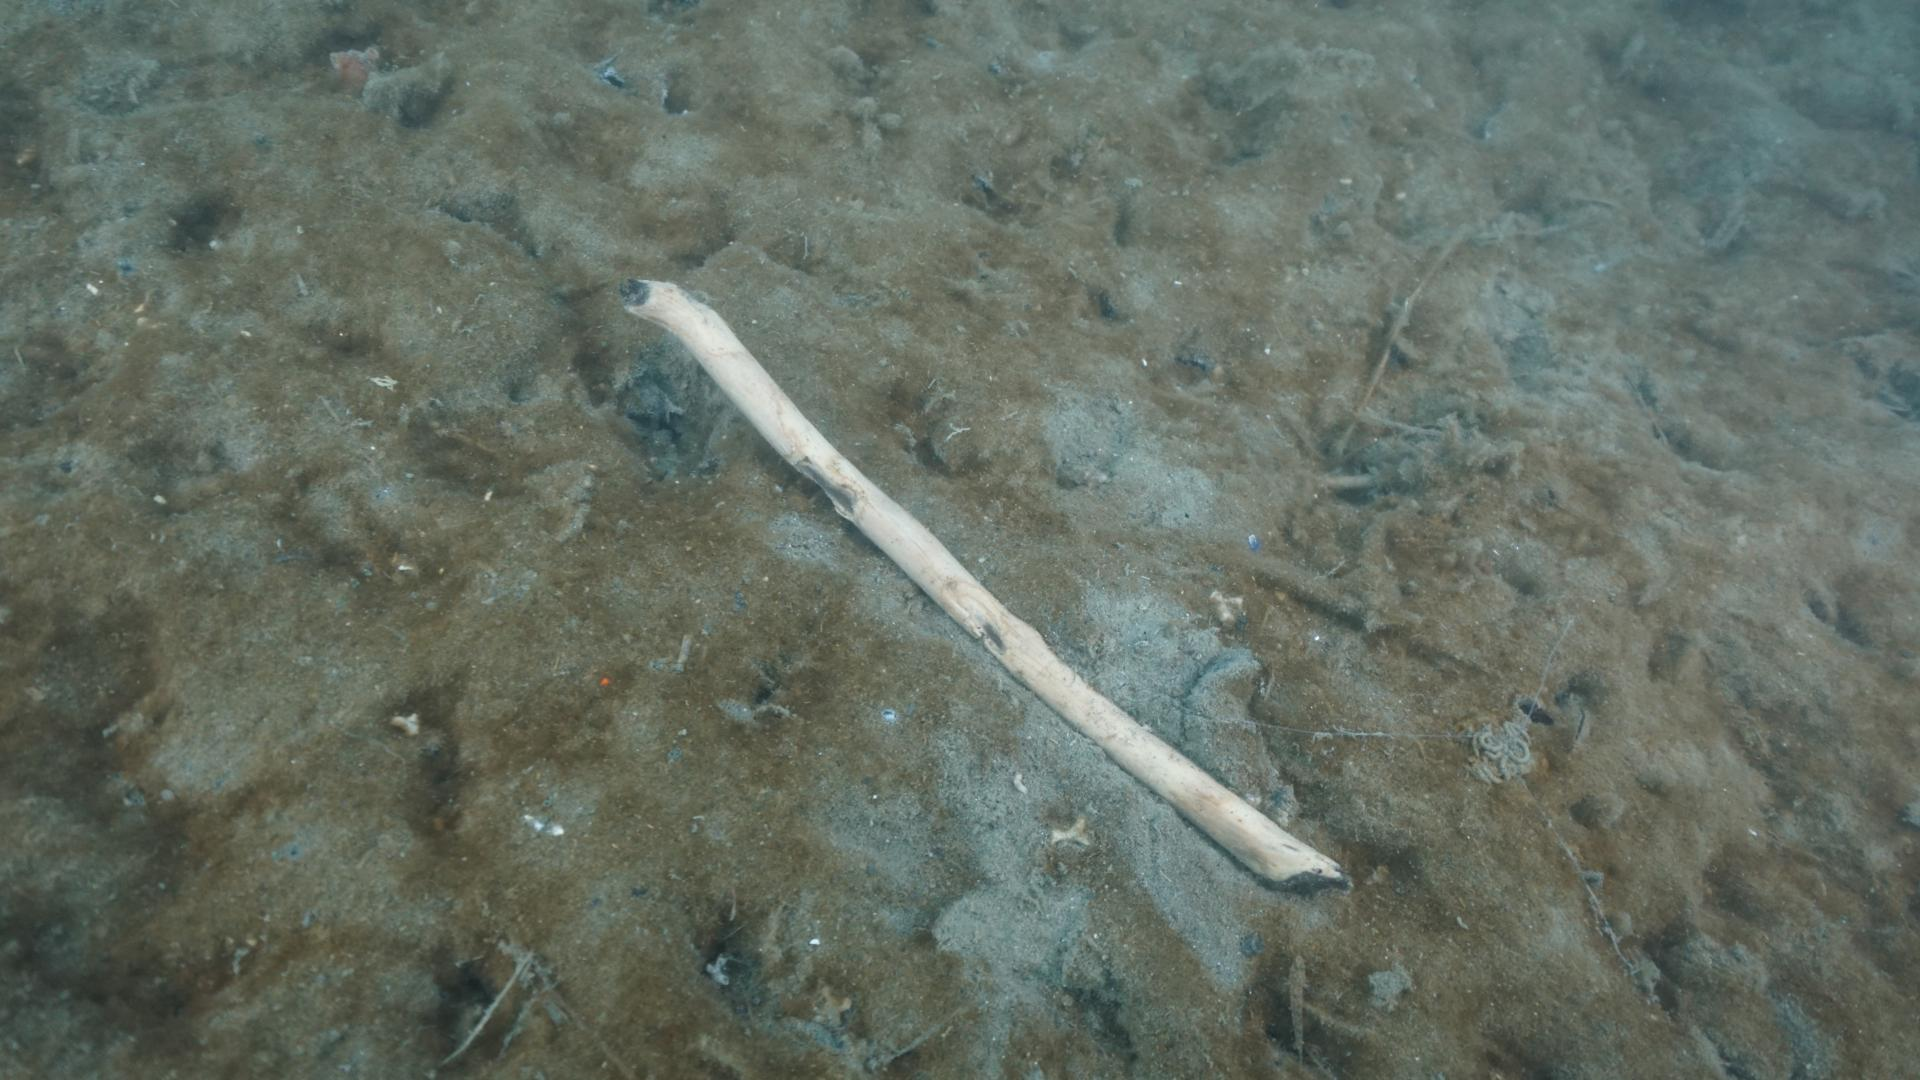wood: (622, 276, 1333, 884)
